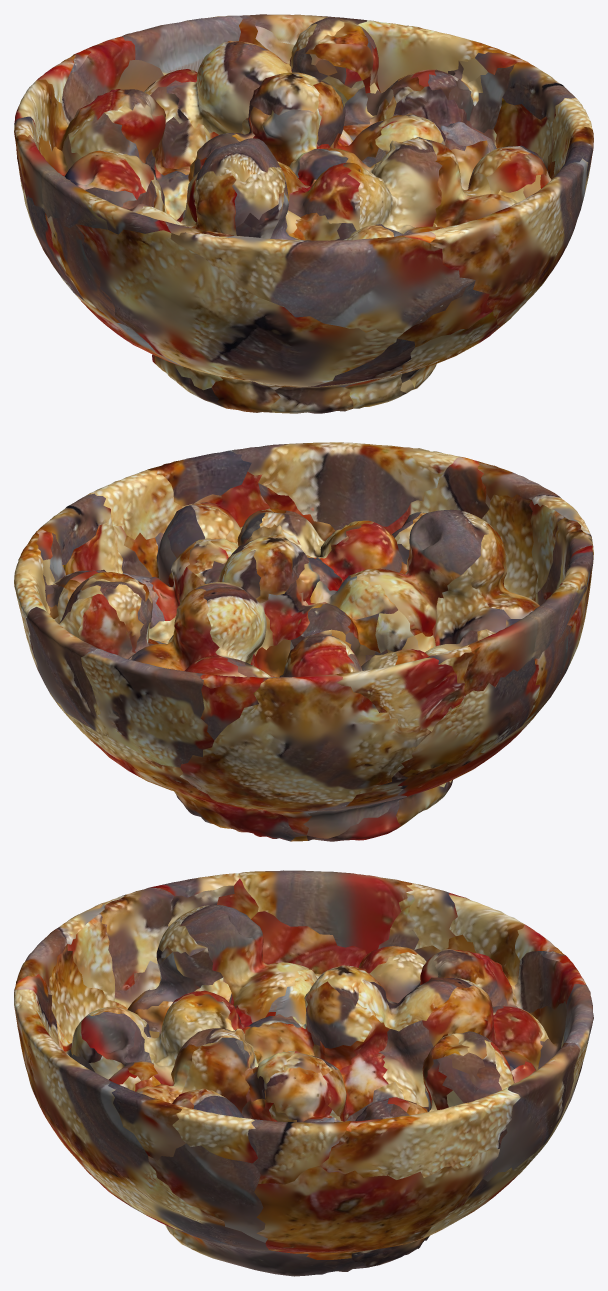
File: olives.obj
The picture shows the model from 3 angles, top to bottom: view 1: azimuth 30°, elevation 25°; view 2: azimuth 150°, elevation 25°; view 3: azimuth 270°, elevation 25°; orthographic projection. The views are drawn at different scales.
Parts seen in each view (by area): view 1: Object; view 2: Object; view 3: Object.
Boxes of the visible parts, x1,y1,x2,y2 form: Object: (14,14,593,413); Object: (14,442,593,841); Object: (14,870,593,1276).
Size of the model in its own units: 0.129 by 0.0679 by 0.1317.
